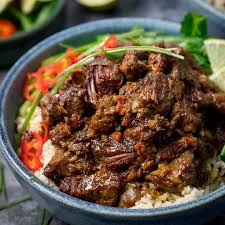rendang: (16, 24, 225, 212)
